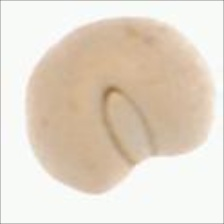L5: (100, 84, 155, 168)
L6: (22, 14, 215, 197)
